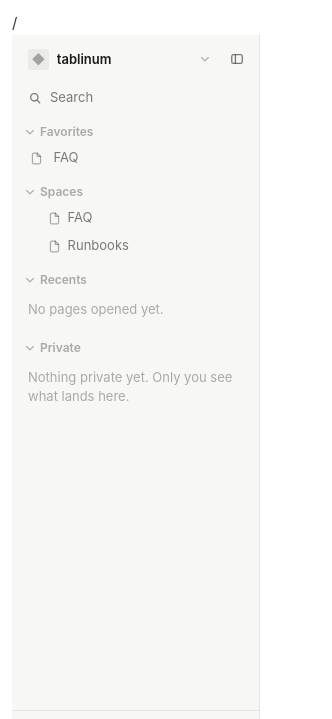
Test: the favorites bucket › opens the page when the row is clicked
Click the button "FAQ". click: (136, 158)
box: [20,144,251,172]
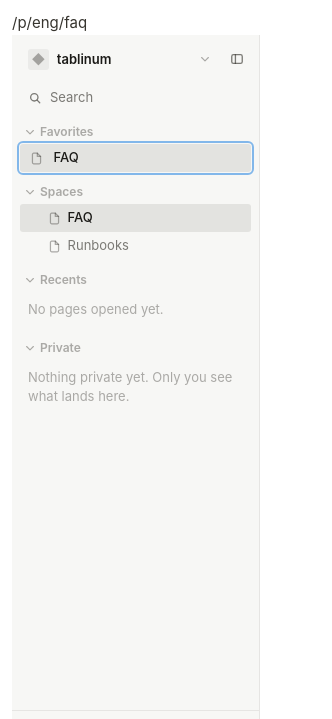
Now the text with test id "location" reads "/p/eng/faq", box [12,13,87,32]
